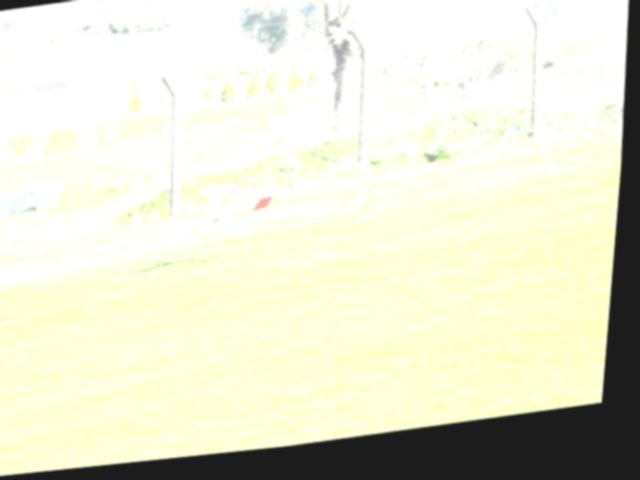iha: (200, 168, 341, 231)
